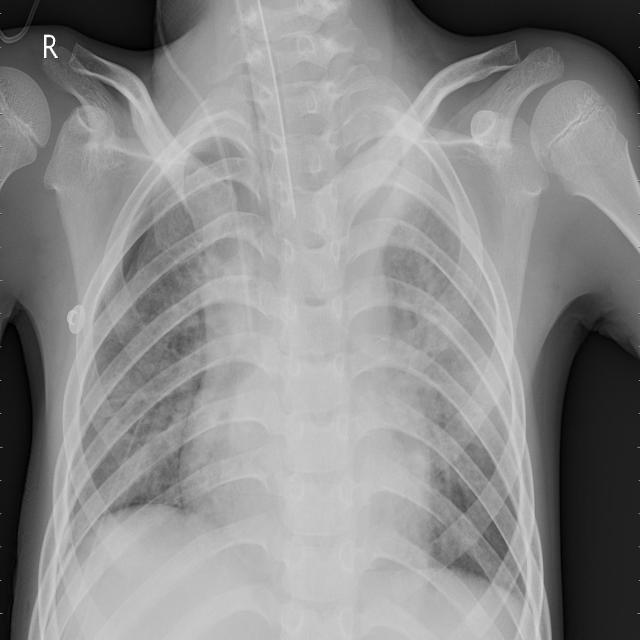low-pneumonia: (393, 255, 502, 481), (360, 112, 444, 245)
